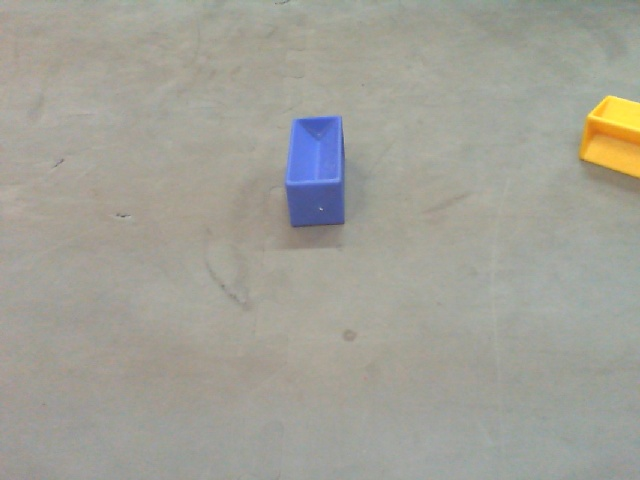BlueSample: (283, 116, 356, 231)
YellowSample: (577, 91, 640, 179)
